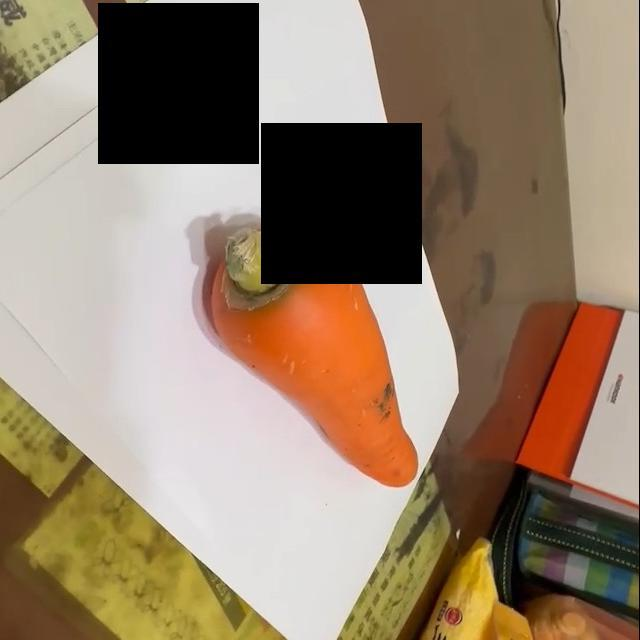carrot: (207, 218, 424, 490)
